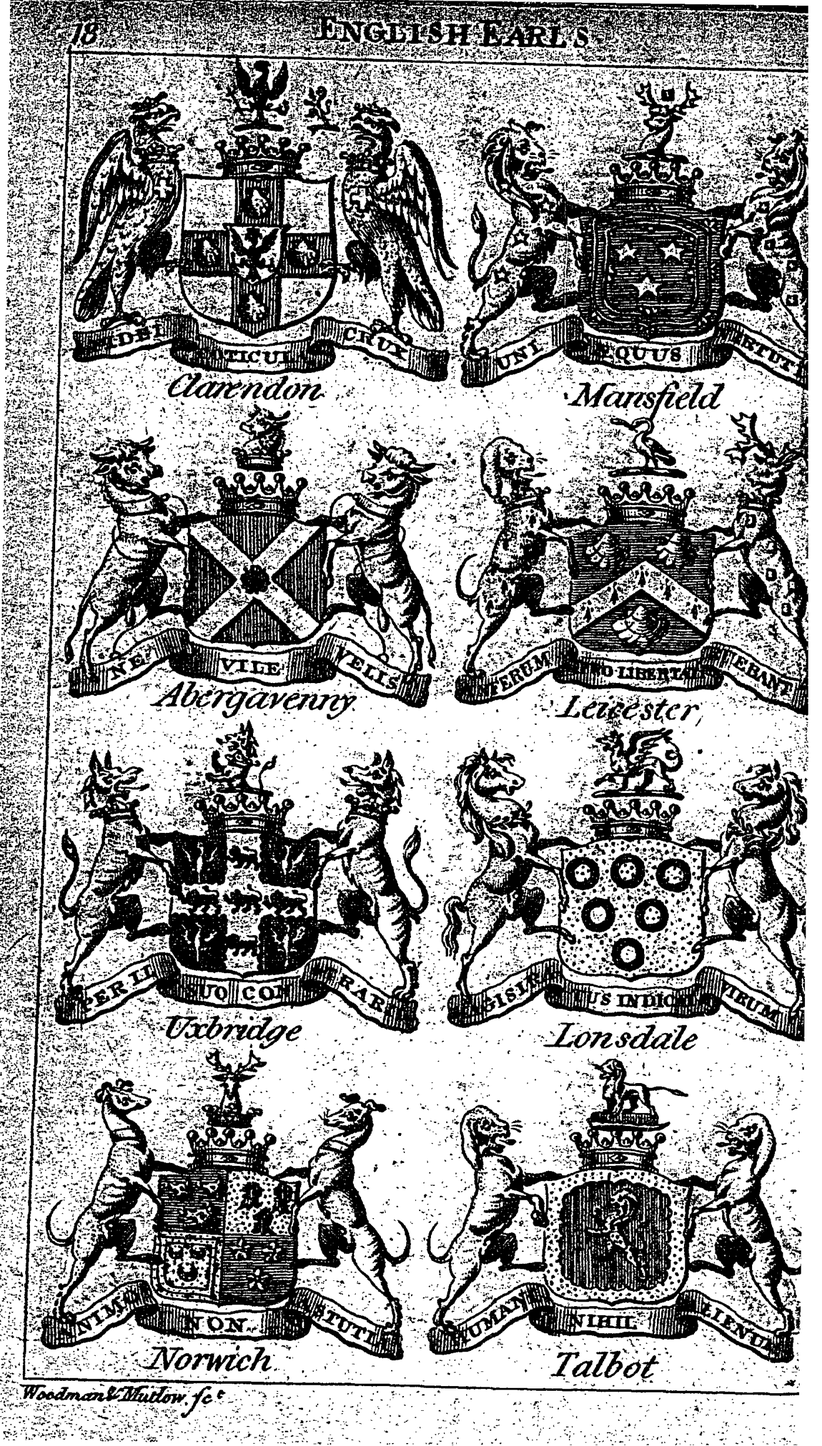coat_of_arms: (429, 1048, 814, 1391), (72, 68, 453, 411), (433, 732, 808, 1050), (61, 723, 419, 1055), (70, 406, 436, 727), (64, 1048, 413, 1384), (448, 418, 822, 728), (466, 96, 805, 412)
